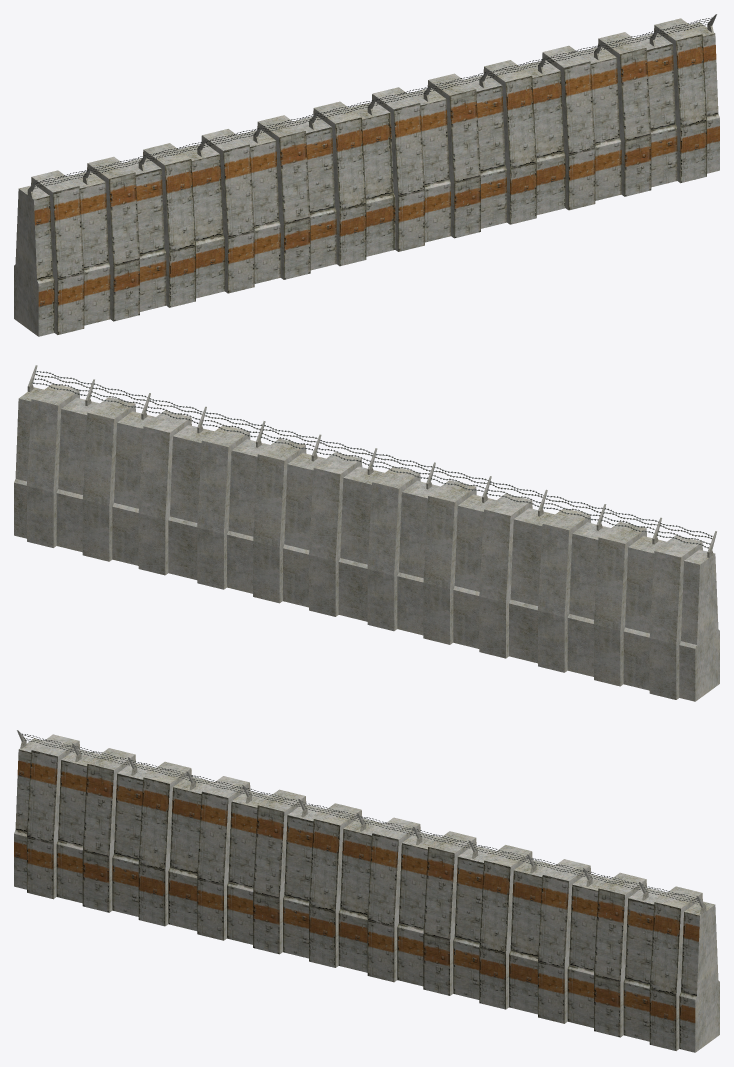
The model's file is mun_all_military_wall_strong_rebl_32_s01_l0.fbx.
3 views of the same model, one above another, from view 1: azimuth 30°, elevation 25°; view 2: azimuth 150°, elevation 25°; view 3: azimuth 330°, elevation 25° (orthographic).
Visible parts, largest first — view 1: mesh_node; view 2: mesh_node; view 3: mesh_node.
Boxes of the visible parts, x1,y1,x2,y2 form: mesh_node: (14, 14, 719, 336); mesh_node: (14, 365, 719, 701); mesh_node: (14, 730, 719, 1052).
Bounding box in the file's own units: 32 × 6.93 × 2.5.
